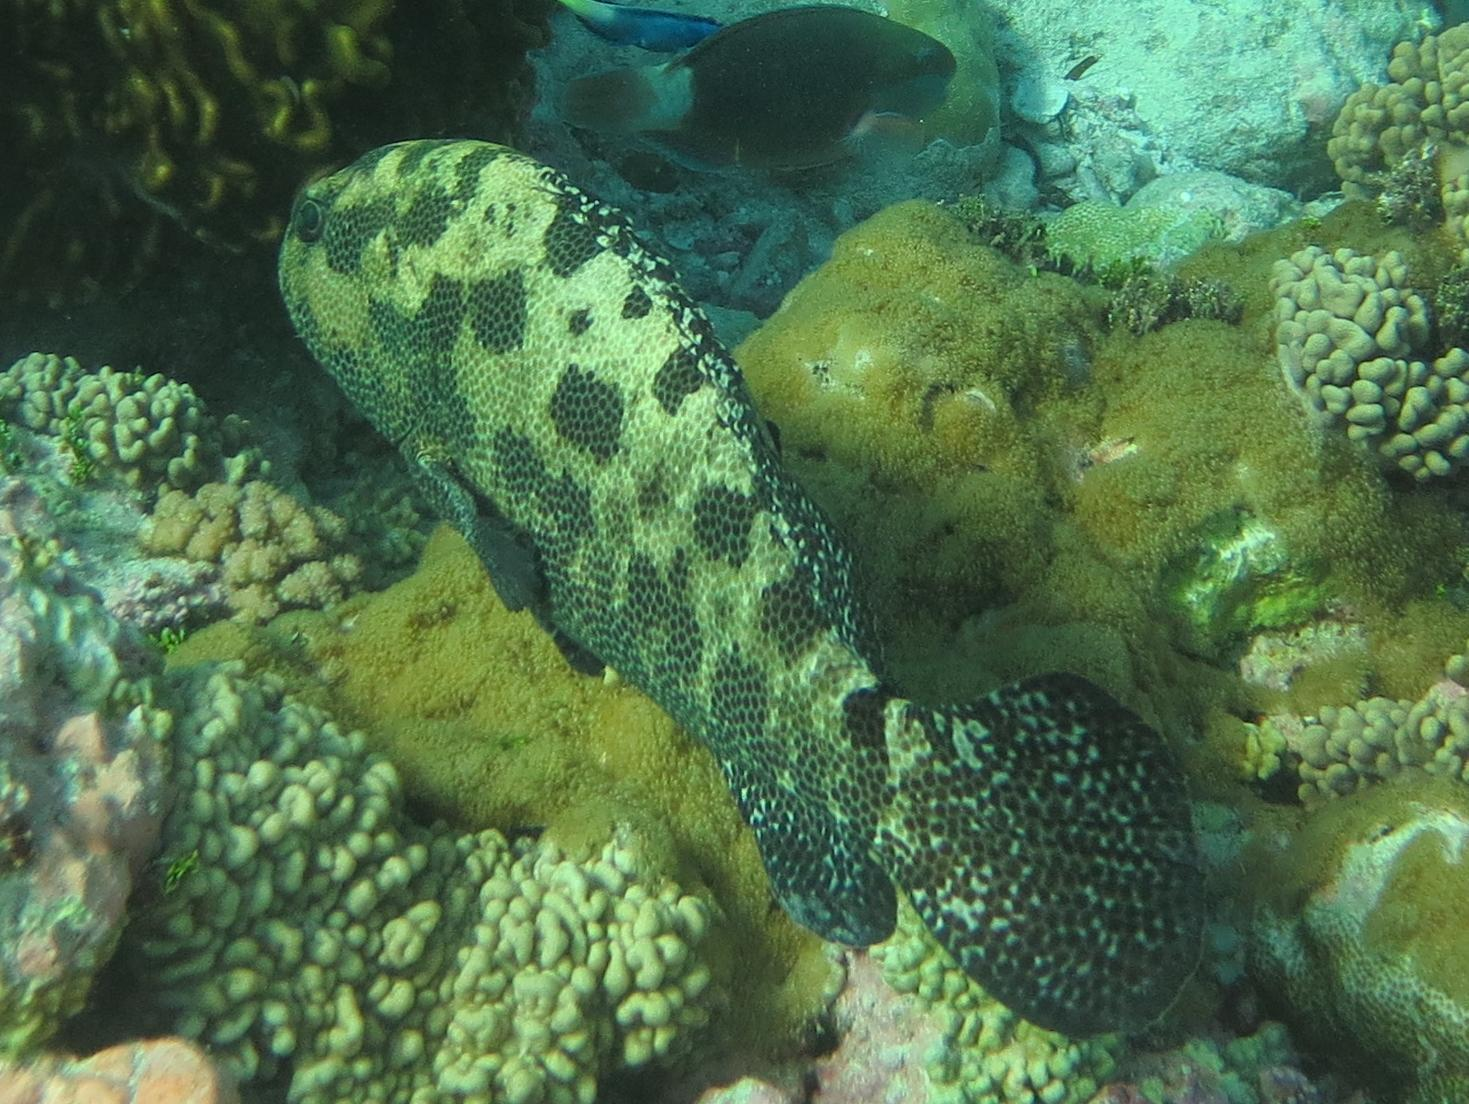Fish: (220, 124, 1282, 1040)
